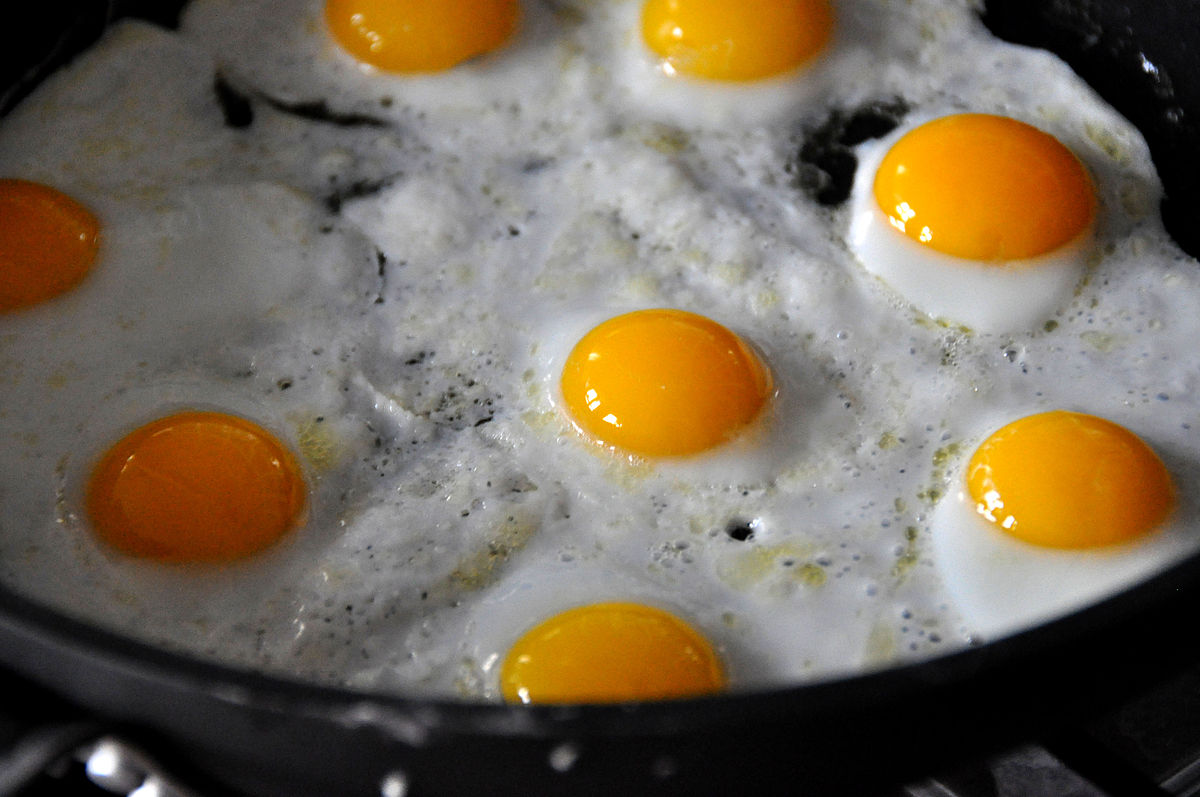fried egg: (345, 141, 894, 517), (66, 345, 529, 666), (212, 1, 1013, 150), (856, 46, 1148, 388), (439, 503, 862, 711), (888, 360, 1191, 630), (1, 20, 157, 401)
